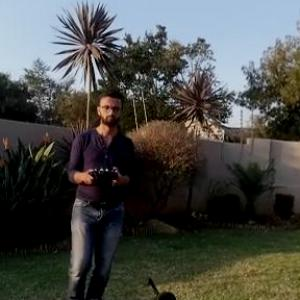follow: (56, 92, 133, 299)
